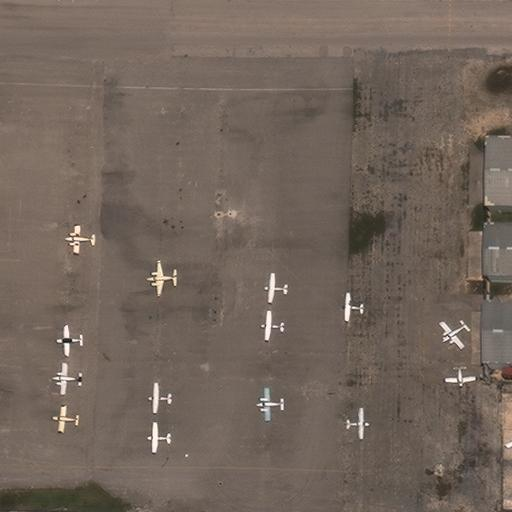Small Civil Transport: (145, 259, 177, 296), (52, 362, 82, 395), (255, 387, 284, 421), (65, 224, 96, 254), (147, 382, 172, 413), (344, 408, 369, 439), (51, 405, 79, 432), (57, 326, 83, 355), (263, 273, 288, 303), (260, 310, 284, 340), (147, 422, 170, 453), (439, 324, 466, 349), (341, 292, 364, 321), (445, 366, 476, 387)
